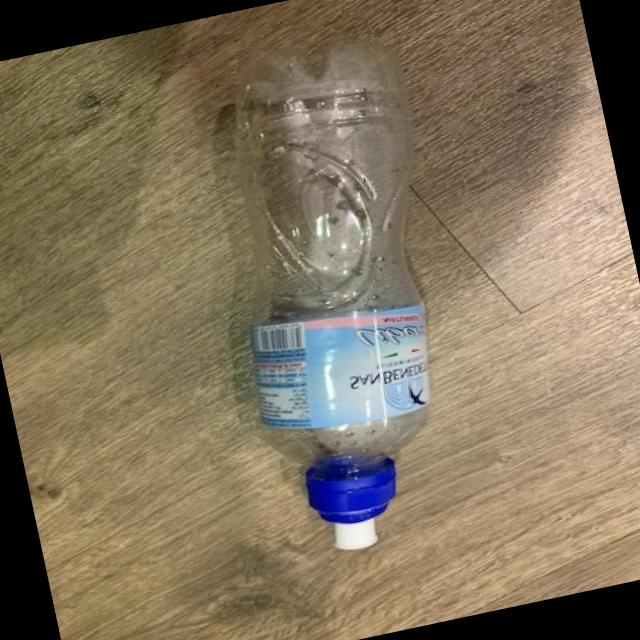plastic_bottle: (184, 22, 498, 564)
